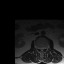CCS_normal: (41, 45, 42, 52)
LFS_normal: (44, 45, 46, 50)
LLS_normal: (42, 46, 44, 51)
RFS_normal: (37, 45, 39, 50)
RLS_normal: (39, 46, 41, 50)
